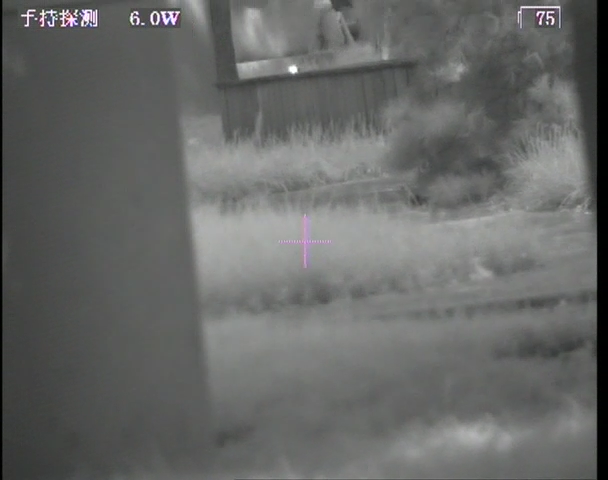my: (286, 63, 299, 76)
